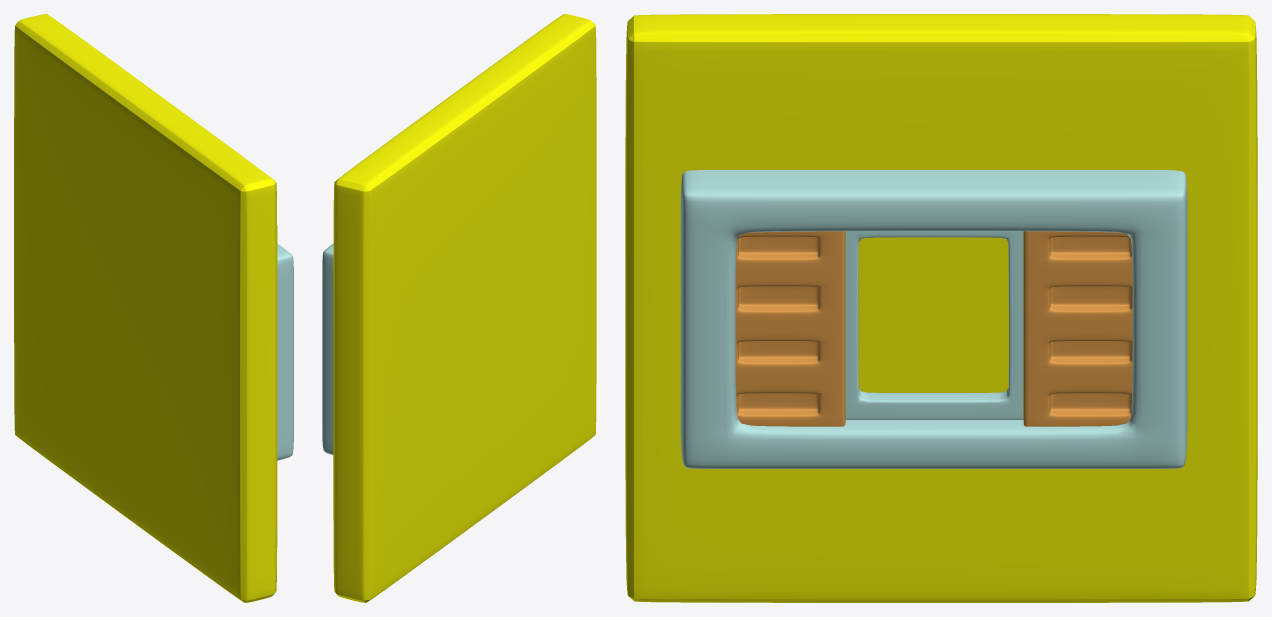
3 views of the same model, side by side, from view 1: azimuth 30°, elevation 25°; view 2: azimuth 150°, elevation 25°; view 3: azimuth 270°, elevation 25° (orthographic). The views are drawn at different scales.
Visible parts, largest first — view 1: polySurface1258; view 2: polySurface1258; view 3: polySurface1258.
Boxes of the visible parts, x1,y1,x2,y2 form: polySurface1258: [14, 14, 293, 602]; polySurface1258: [322, 14, 596, 602]; polySurface1258: [625, 14, 1257, 602].
Size of the model in its own units: 0.19 by 0.9995 by 0.9995.
